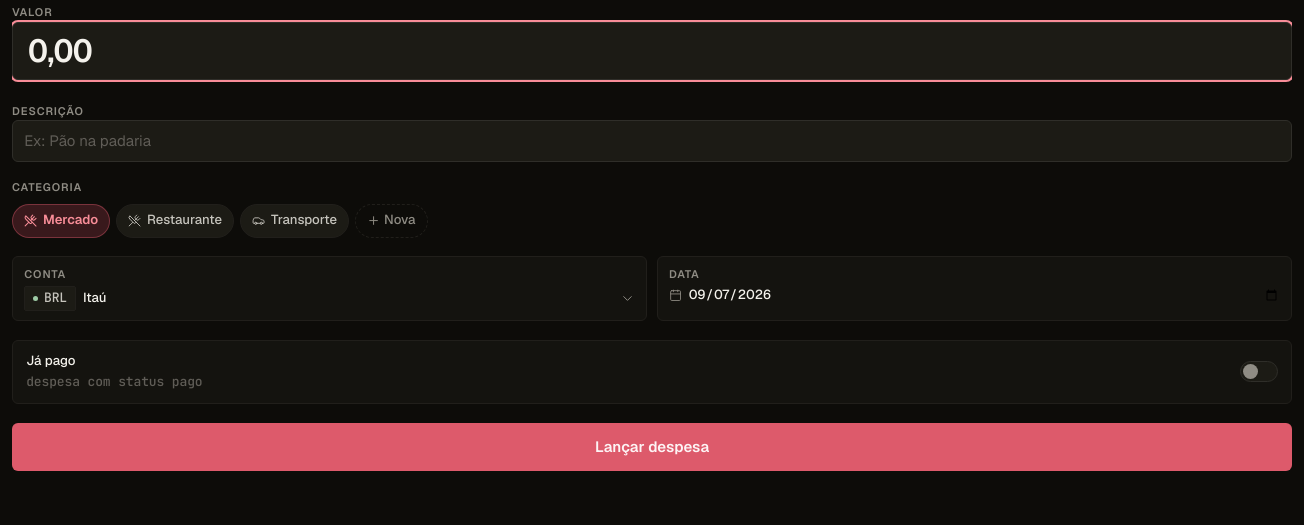
<LancarForm> › C4 — erro do servidor aparece inline em role=alert e botão volta a habilitar
Type "12,50" into the field labelled "Valor" at (652, 51), box [12,22,1292,80]
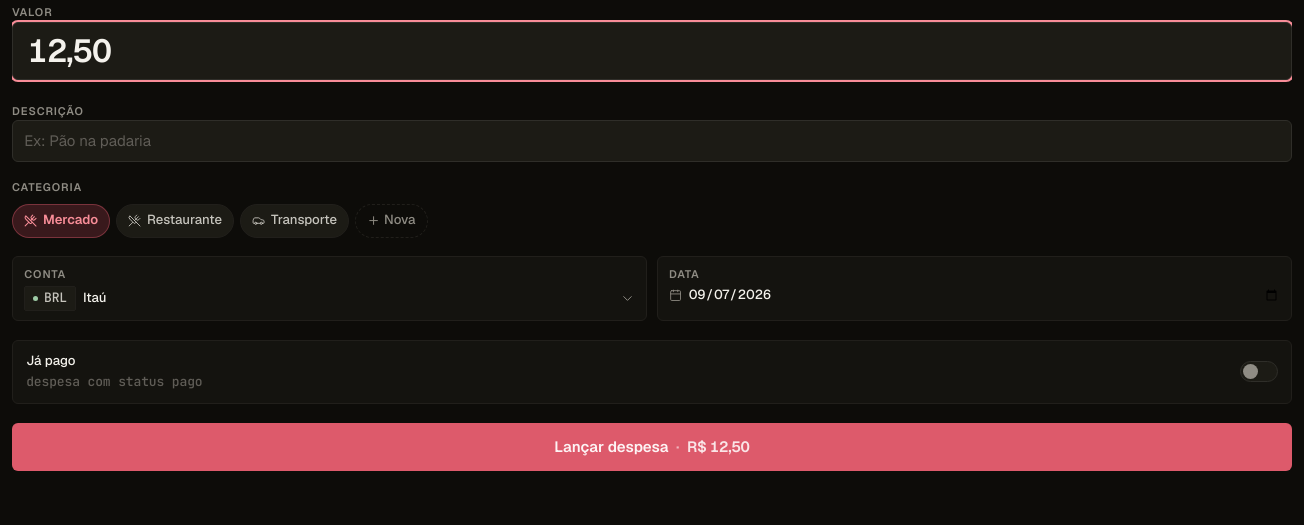
Type "x" into the field labelled "Descrição" at (652, 141), box [12,120,1292,162]
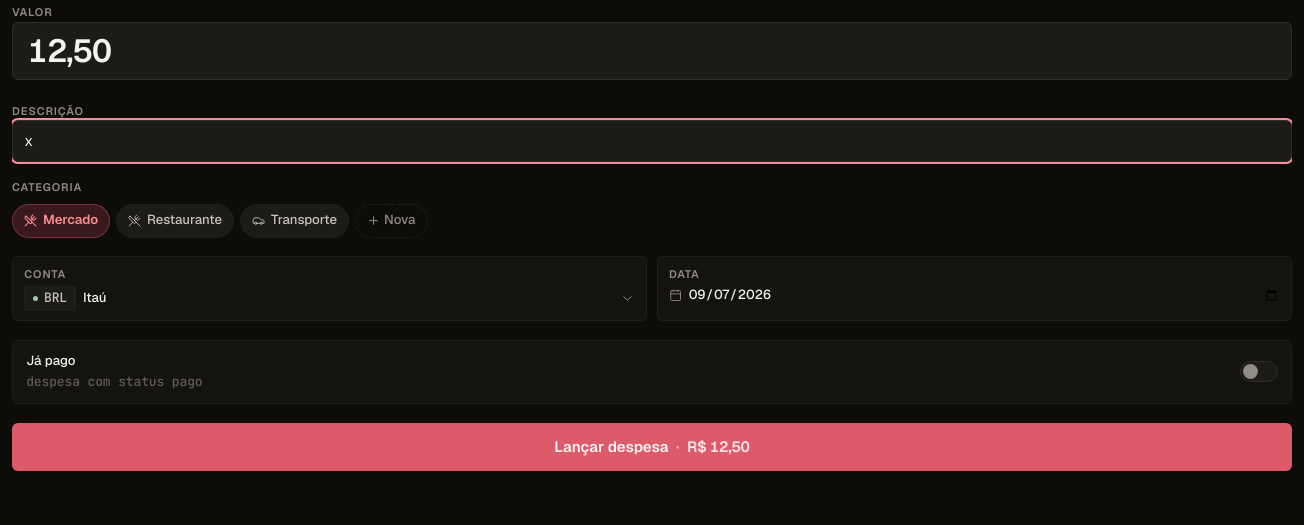
Click the button "Lançar despesa · R$ 12,50" at (652, 446), box [12,422,1292,470]
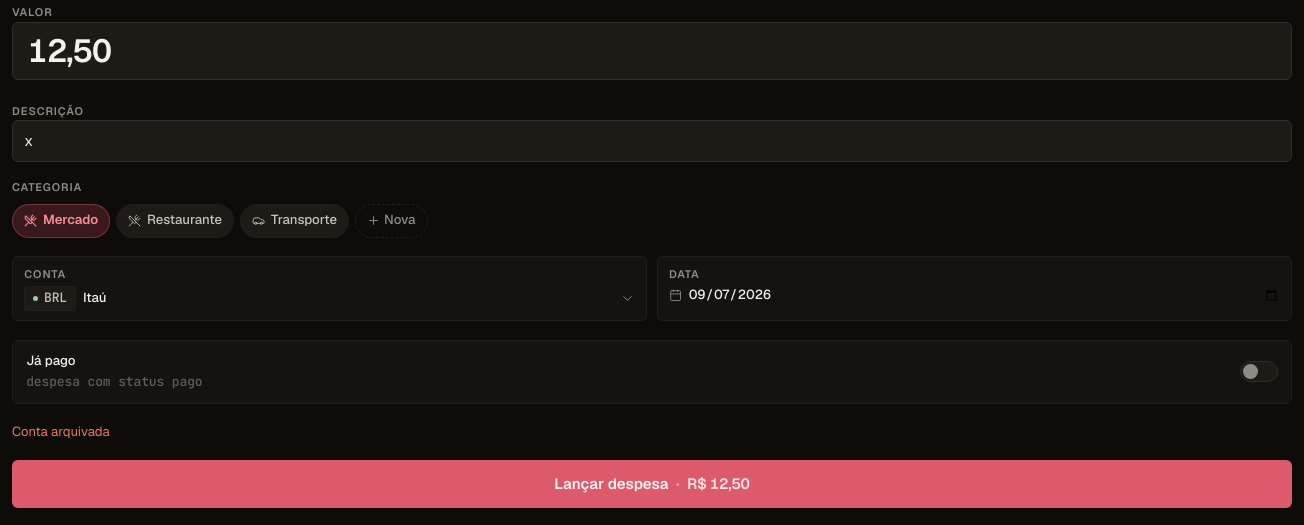
expect the button "Lançar despesa · R$ 12,50" is enabled: met, box [12,460,1292,508]
expect the message reads "Conta arquivada": met, box [12,422,110,440]
